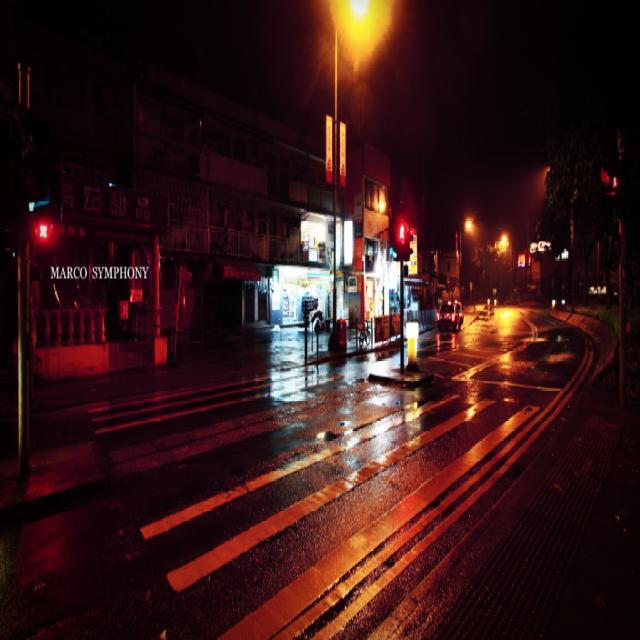traffic light: (602, 158, 623, 227), (403, 225, 415, 262), (37, 217, 50, 246)
